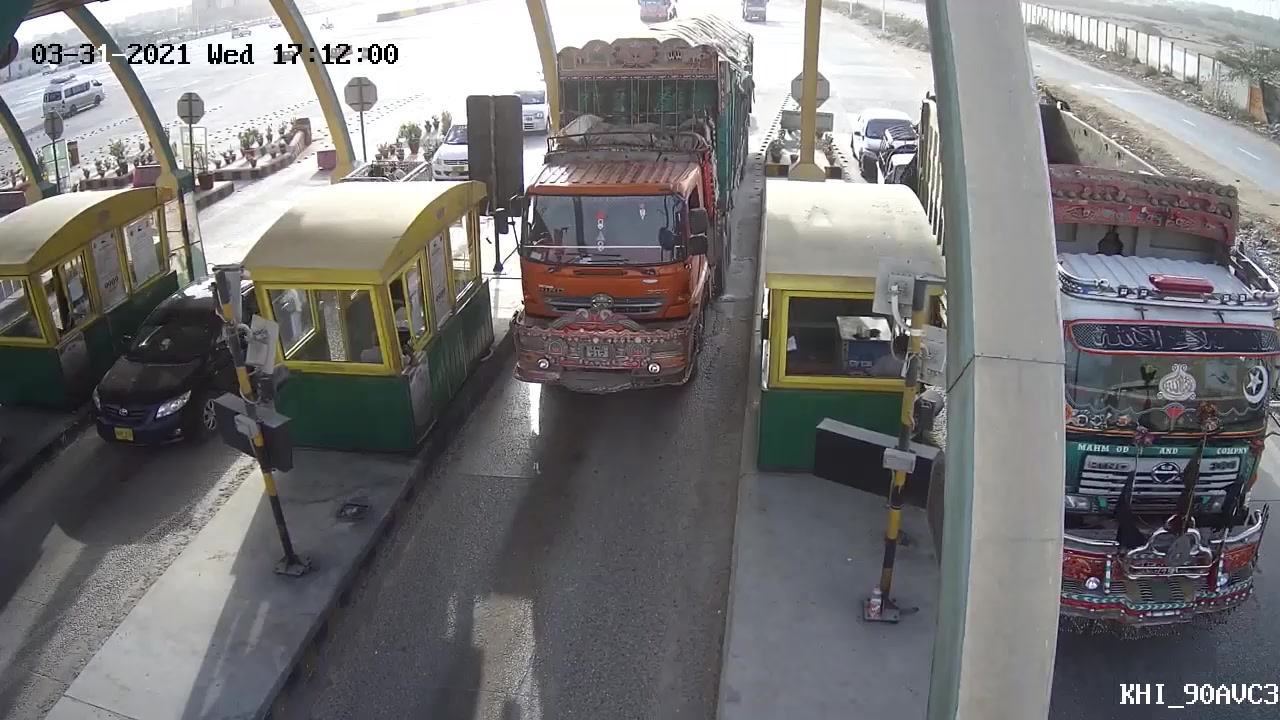F6: (499, 15, 761, 426)
